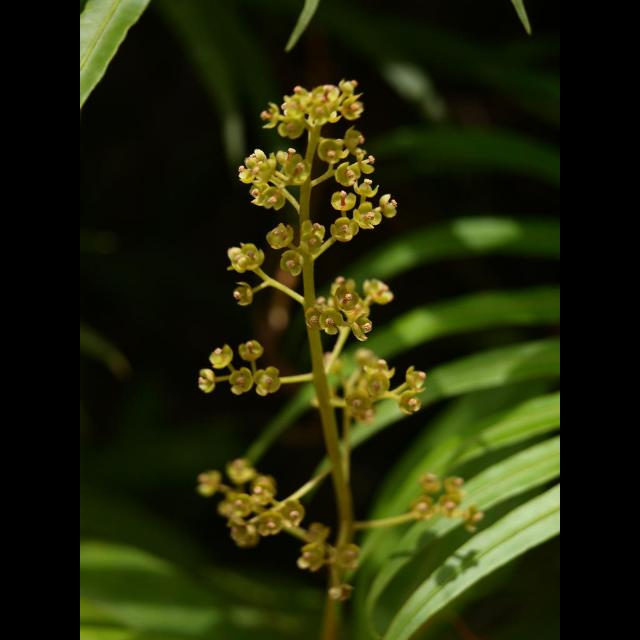Flower: (184, 41, 466, 588)
